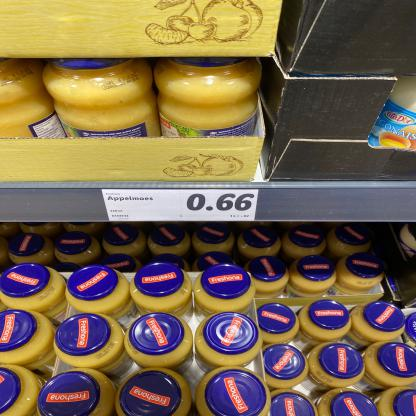prtg: (103, 190, 260, 222)
